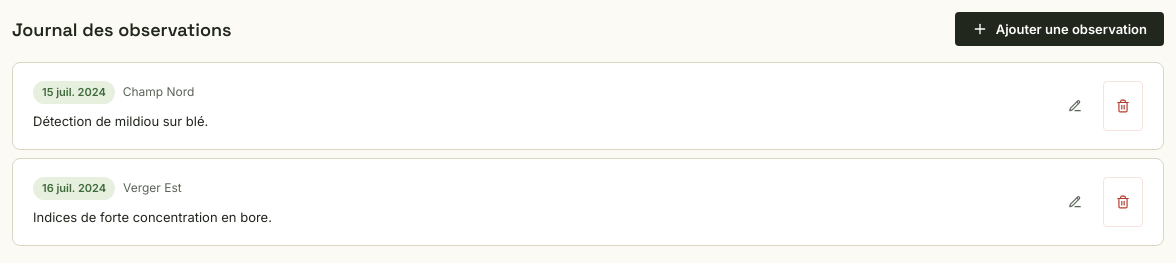
Test: ObservationListView › supprime une observation après confirmation
expect the text "Détection de mildiou sur blé." is shown: met, box [33,112,208,128]
Click the button named "Supprimer" in the row of "Détection de mildiou sur blé.". click: (1123, 106)
box: [1103,81,1143,131]
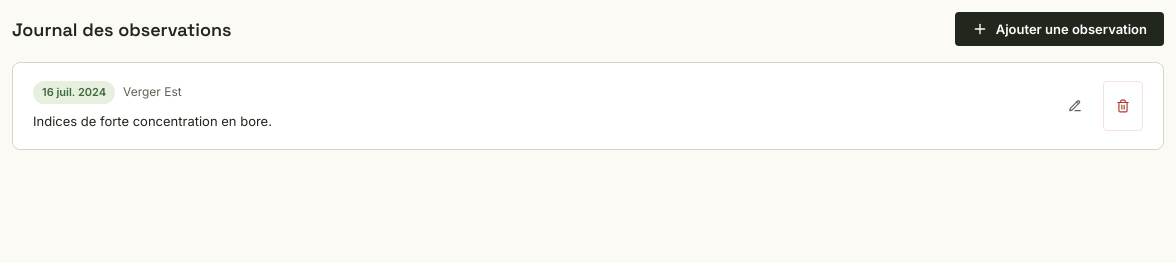
expect the text "Détection de mildiou sur blé" is gone: met
